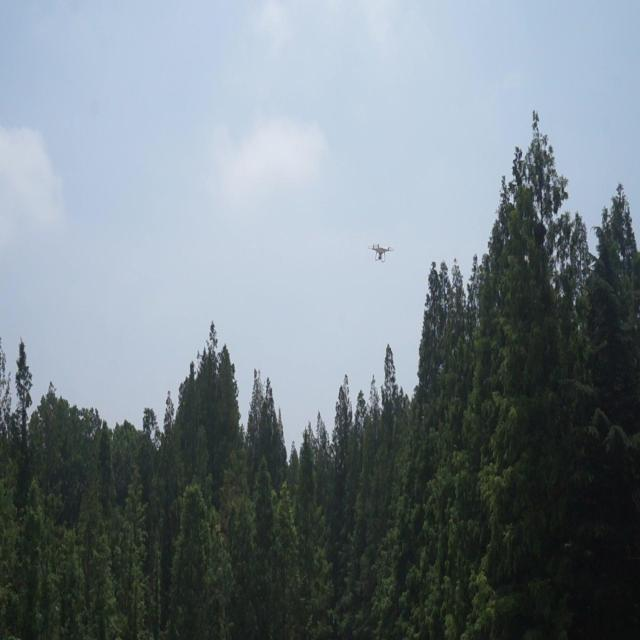drone: (368, 238, 396, 268)
